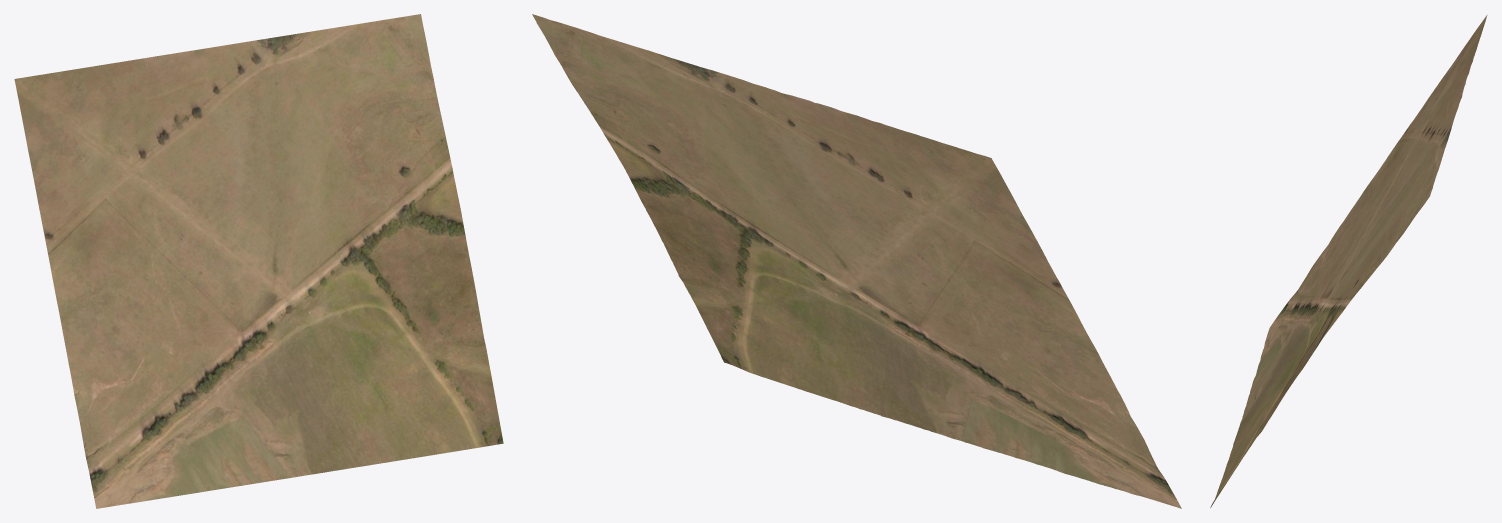
3 renders of one model, left to right at view 1: azimuth 30°, elevation 25°; view 2: azimuth 150°, elevation 25°; view 3: azimuth 270°, elevation 25°, orthographic. The views are drawn at different scales.
Parts seen in each view (by area): view 1: empty; view 2: empty; view 3: empty.
Part boxes in pixels (left/top/right/bottom): empty: left=14, top=14, right=503, bottom=508; empty: left=532, top=14, right=1181, bottom=508; empty: left=1210, top=15, right=1487, bottom=507.
Bounding box in the file's own units: 547 × 441 × 334.
Materials: 1 (1 with a texture image).
